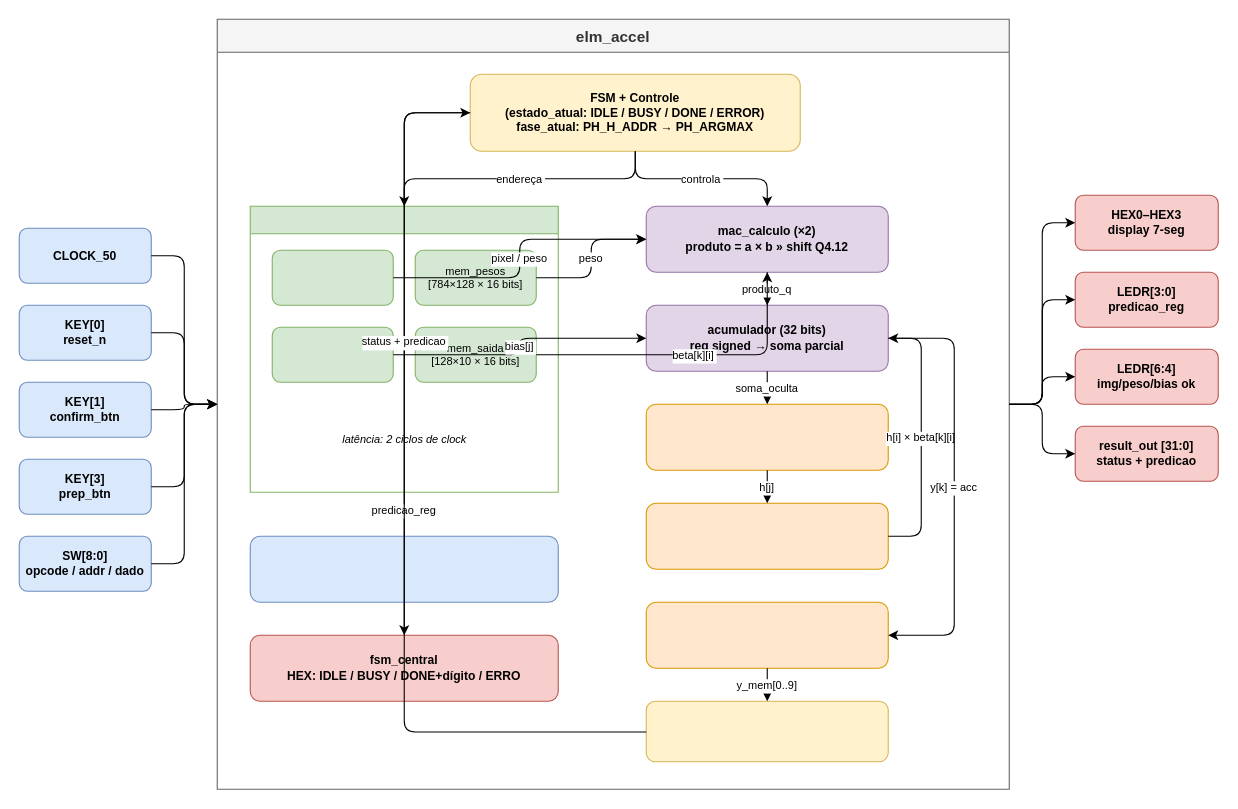
Some shapes in this 1238 by 809 pixel diagram are drawn without their labels. Each missing label, with the box of its shape:
argmax classe_escolhida = max(y_mem[0..9]) ★ lê após PH_ARGMAX_WAIT: (645, 700, 888, 762)
ativacao ReLU / saturação 32→16 bits: (645, 403, 888, 470)
bancodememorias: (249, 205, 558, 492)
h_mem[ ] (128 × 16 bits) saídas da camada oculta: (645, 502, 888, 569)
Interface Avalon-MM avs_address / write / read: (249, 535, 558, 602)
mem_bias [128 × 16 bits]: (271, 326, 393, 382)
mem_imagem [784 × 16 bits]: (271, 249, 393, 305)
y_mem[ ] (10 × 32 bits) scores de cada classe: (645, 601, 888, 668)
